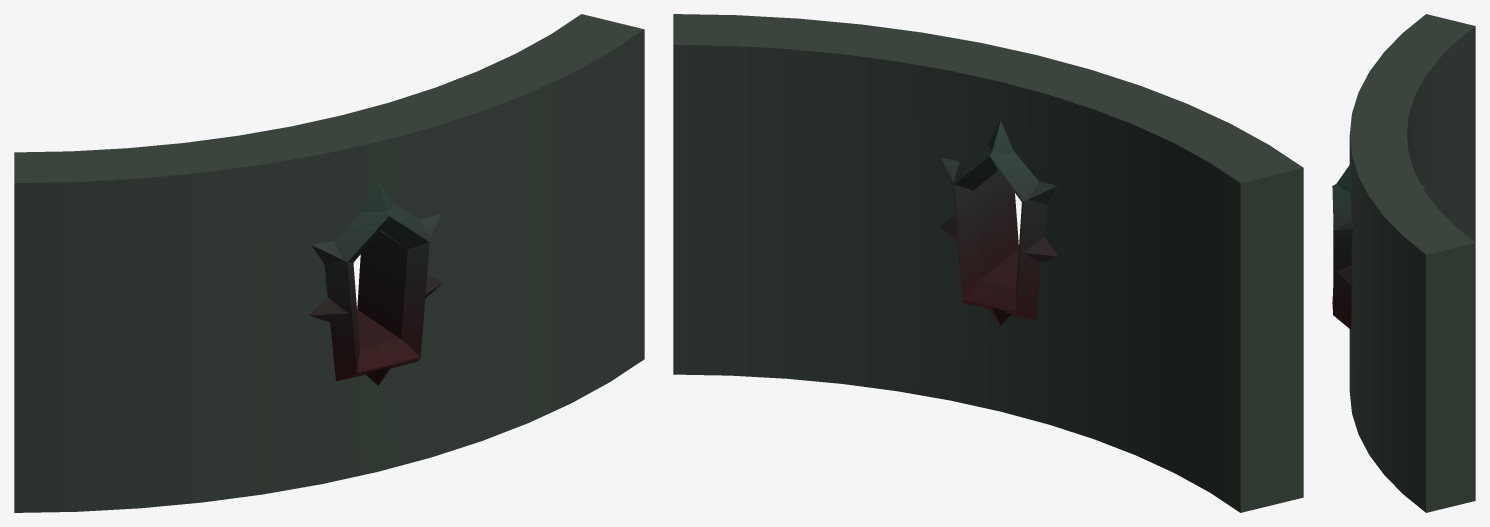
File: SM_WallRingLarge_Window.fbx
The picture shows the model from 3 angles, left to right: view 1: azimuth 30°, elevation 25°; view 2: azimuth 150°, elevation 25°; view 3: azimuth 270°, elevation 25°; orthographic projection. The views are drawn at different scales.
Parts seen in each view (by area): view 1: SM_WallRingLarge_Side_Window; view 2: SM_WallRingLarge_Side_Window; view 3: SM_WallRingLarge_Side_Window.
Part boxes in pixels (x1=…): SM_WallRingLarge_Side_Window: x1=14, y1=14, x2=644, y2=512; SM_WallRingLarge_Side_Window: x1=673, y1=14, x2=1303, y2=512; SM_WallRingLarge_Side_Window: x1=1332, y1=14, x2=1475, y2=512.
Bounding box in the file's own units: 1000 × 500 × 251.
1 material, 1 textured.
